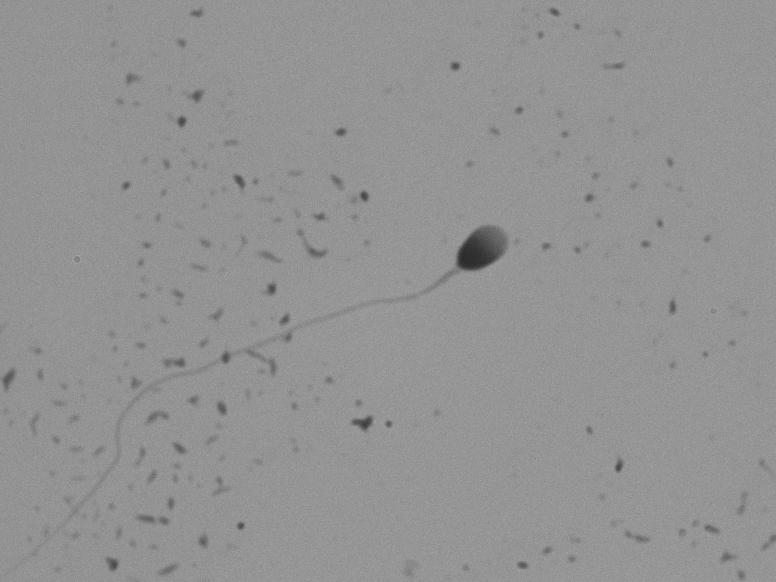Normal: (21, 196, 561, 533)
